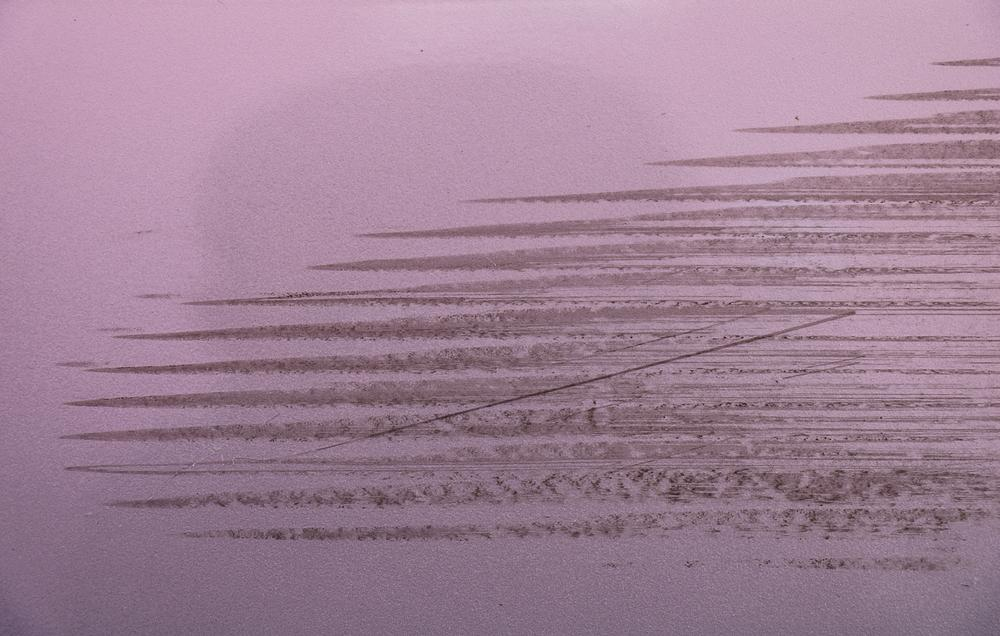scratch: (33, 27, 1000, 586)
